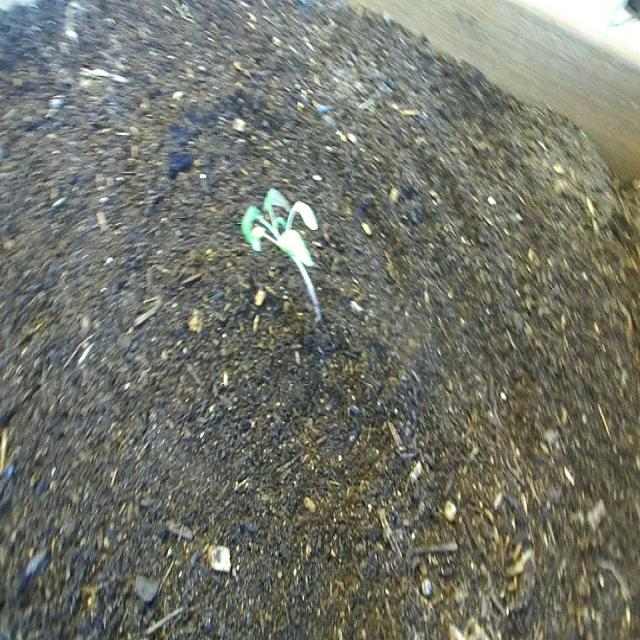Unhealthy: (241, 185, 331, 320)
